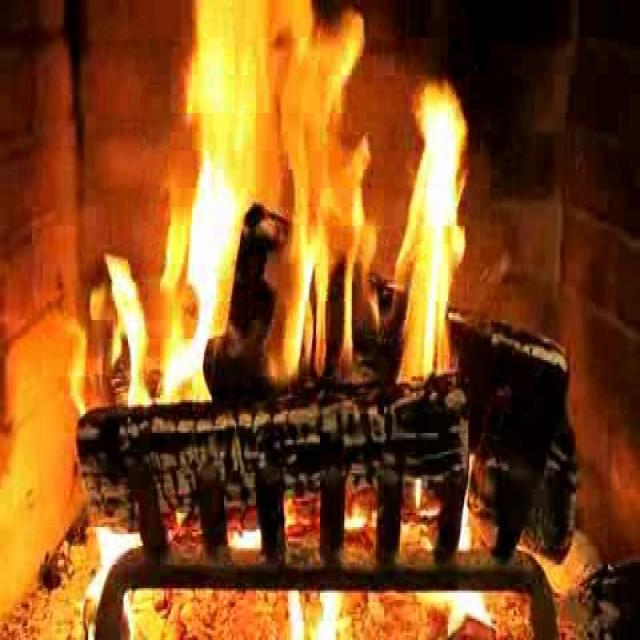fire: (156, 1, 482, 402)
